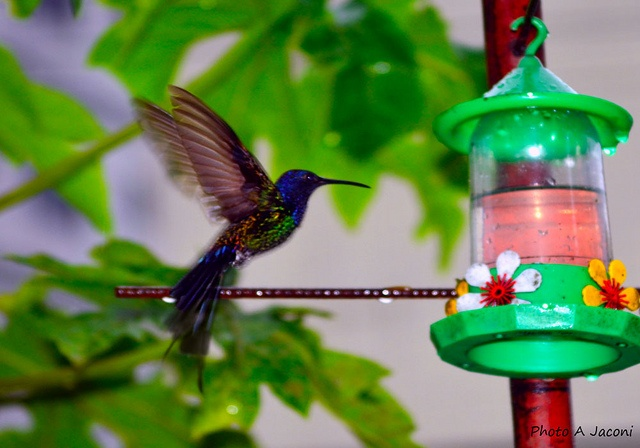bird: (127, 84, 500, 436)
